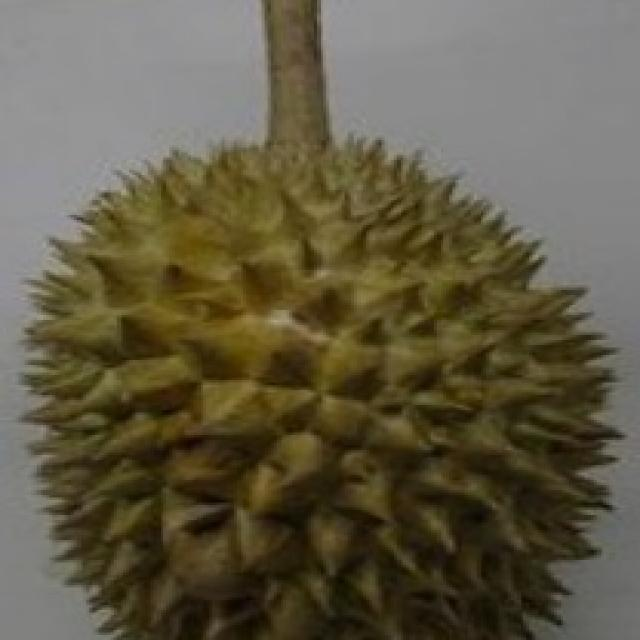fruit: (277, 210, 640, 638), (0, 267, 360, 640)
